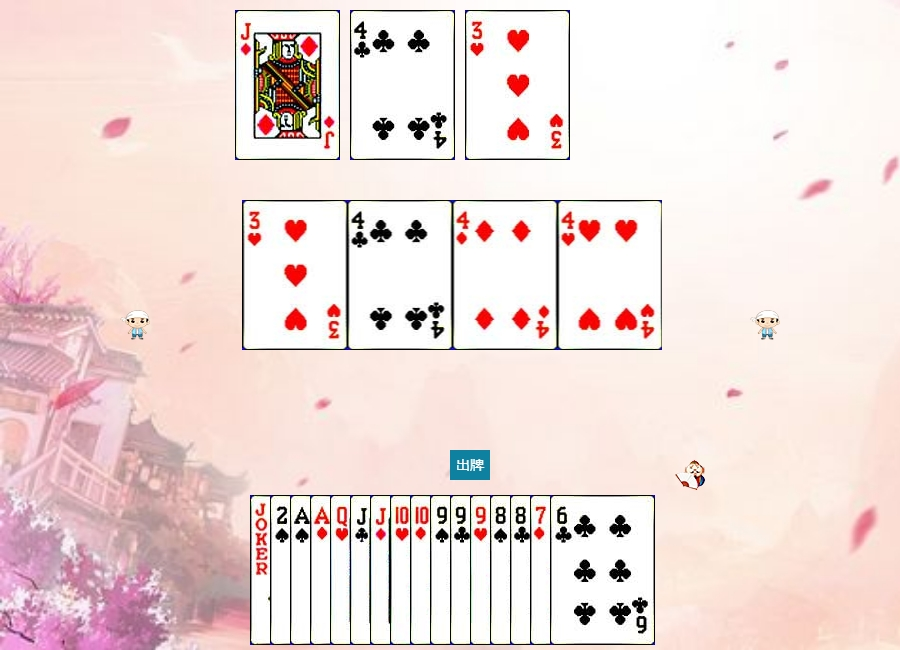10~1: (410, 495, 515, 645)
10~3: (390, 495, 495, 645)
11~1: (235, 10, 340, 160), (370, 495, 475, 645)
11~2: (350, 495, 455, 645)
12~3: (330, 495, 435, 645)
14~1: (310, 495, 415, 645)
14~4: (290, 495, 395, 645)
15~4: (270, 495, 375, 645)
18~4: (250, 495, 355, 645)
3~3: (465, 10, 570, 160), (243, 200, 348, 350)
4~1: (453, 200, 558, 350)
4~2: (350, 10, 455, 160), (348, 200, 453, 350)
4~3: (558, 200, 663, 350)
6~2: (550, 495, 655, 645)
7~1: (530, 495, 635, 645)
8~2: (510, 495, 615, 645)
8~4: (490, 495, 595, 645)
9~2: (450, 495, 555, 645)
9~3: (470, 495, 575, 645)
9~4: (430, 495, 535, 645)
